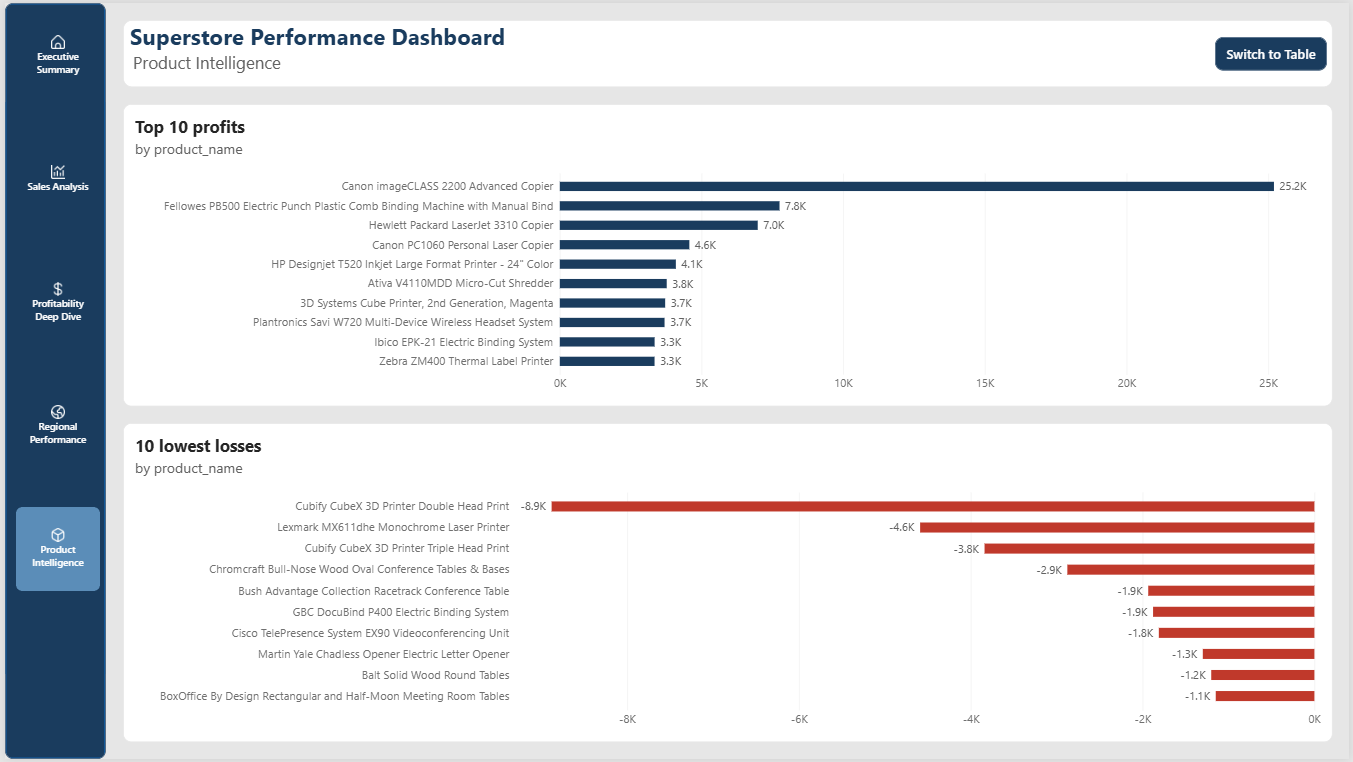

What the dashboard file says about the page in this screenshot:
{"tool":"powerbi","page":{"name":"Product Intelligence","canvas":[1920,1080],"ordinal":4},"visuals":[{"type":"textbox","box":[168,24,1728,96],"z":2000},{"type":"tableEx","fields":{"Values":["fact_orders.product_name","fact_orders.Total Sales","fact_orders.Total Profit","fact_orders.Profit Margin %"]},"box":[168,144,1728,912],"z":3000},{"type":"actionButton","box":[1704,48,168,48],"z":5000},{"type":"shape","box":[0,0,144,1080],"z":6000},{"type":"actionButton","box":[16,16,120,120],"z":7000},{"type":"actionButton","box":[16,192,120,120],"z":8000},{"type":"actionButton","box":[16,368,120,120],"z":9000},{"type":"actionButton","box":[16,544,120,120],"z":10000},{"type":"actionButton","box":[16,720,120,120],"z":11000}]}

Visuals, with their boxes on the page's 1920x1080 design canvas (x1, y1, x2, y2). These are canvas units, not pixel positions in the 1353x762 screenshot, which may show the page scaled, cropped or inside an application window:
textbox: 168, 24, 1896, 120
tableEx - fact_orders.product_name x fact_orders.Total Sales: 168, 144, 1896, 1056
actionButton: 1704, 48, 1872, 96
shape: 0, 0, 144, 1080
actionButton: 16, 16, 136, 136
actionButton: 16, 192, 136, 312
actionButton: 16, 368, 136, 488
actionButton: 16, 544, 136, 664
actionButton: 16, 720, 136, 840
